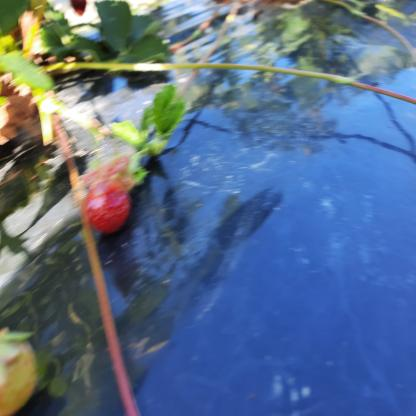ripe: (81, 174, 129, 229)
